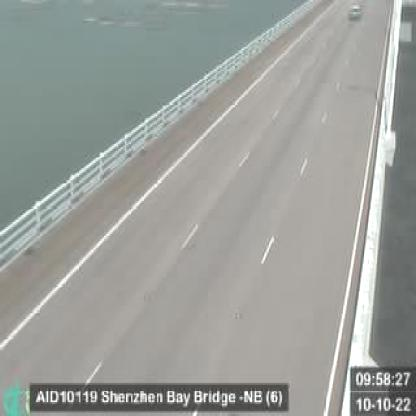Car: (348, 2, 366, 21)
